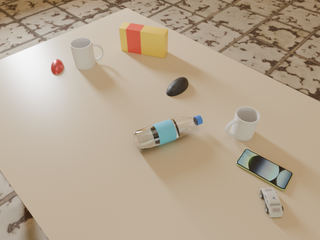bottle: (134, 115, 203, 151)
box: (119, 22, 168, 58)
cup: (225, 107, 260, 141), (70, 38, 103, 70)
mouse: (166, 77, 188, 96), (51, 59, 64, 74)
phone: (236, 149, 293, 191)
toy_car: (260, 188, 283, 217)
